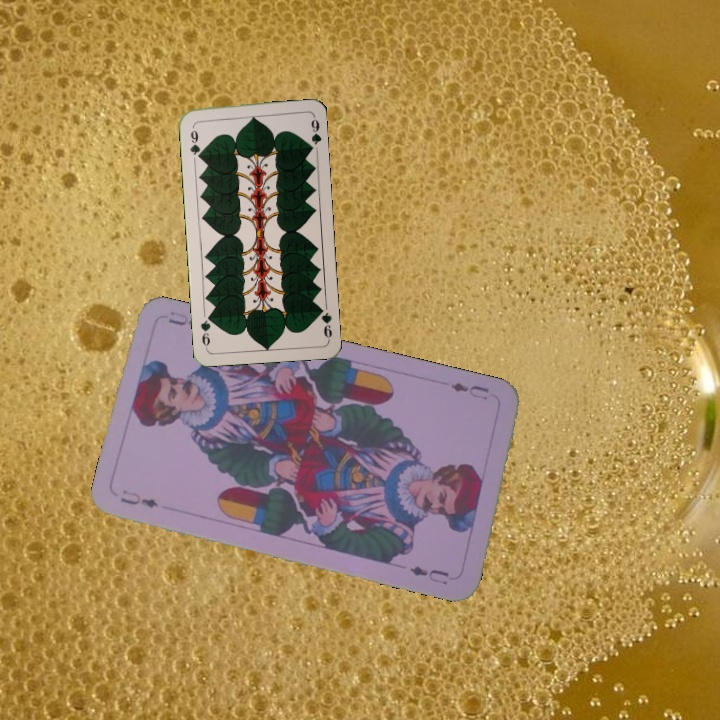EU: (116, 485, 161, 511), (446, 378, 492, 403)
G9: (314, 302, 335, 342), (186, 121, 204, 162)
